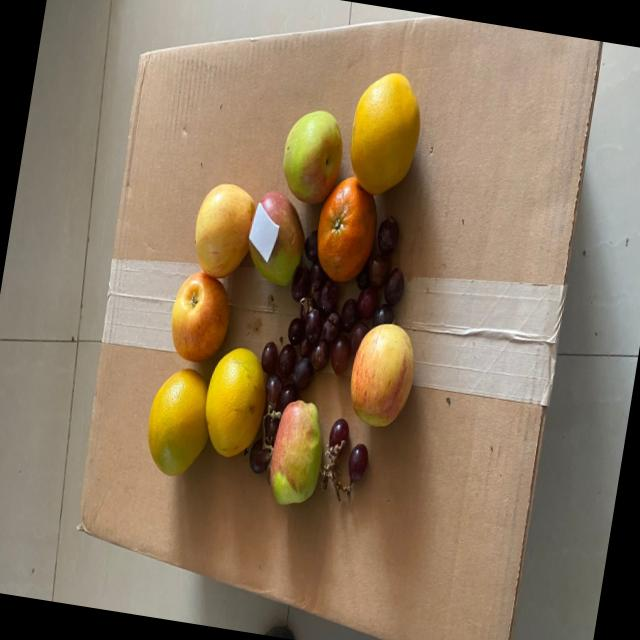hoja: (242, 202, 284, 266)
